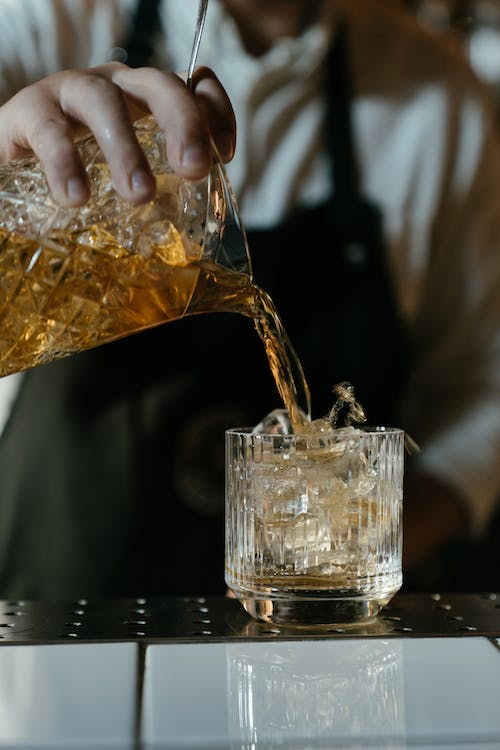alcohol: (0, 96, 261, 382), (222, 423, 408, 627)
